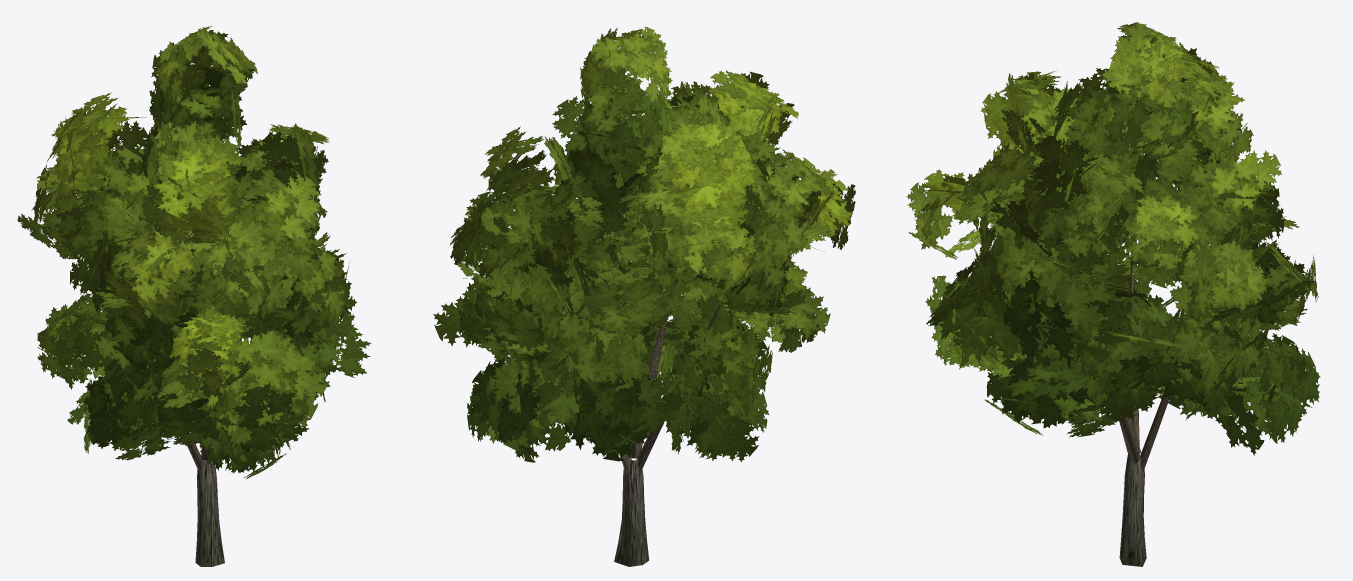
Rendered from maple-small-lite.glb.
3 renders of one model, left to right at view 1: azimuth 30°, elevation 25°; view 2: azimuth 150°, elevation 25°; view 3: azimuth 270°, elevation 25°, orthographic.
Visible parts, largest first — view 1: Leaves, Bark; view 2: Leaves, Bark; view 3: Leaves, Bark.
Part boxes in pixels (<box>): Leaves: <box>17,26,371,478</box>; Bark: <box>124,294,224,566</box>; Leaves: <box>433,26,855,462</box>; Bark: <box>566,294,720,566</box>; Leaves: <box>906,22,1320,455</box>; Bark: <box>1084,252,1170,566</box>.
Bounding box in the file's own units: 4.87 × 7.35 × 5.49.
Materials: 2 (2 with a texture image).
